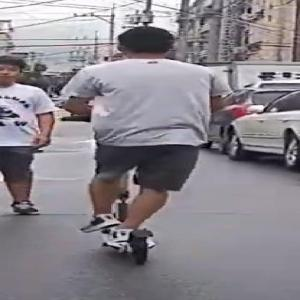with scooter: (59, 27, 233, 266)
without scooter: (0, 56, 55, 215)
